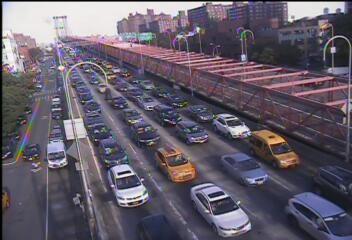neg: (39, 190, 61, 220), (132, 86, 151, 112), (40, 151, 59, 177), (99, 156, 118, 181), (174, 173, 193, 198), (301, 147, 320, 172), (270, 98, 287, 121), (240, 164, 257, 187), (317, 80, 334, 103), (269, 41, 286, 64), (66, 124, 83, 146), (95, 22, 111, 44), (128, 177, 144, 199), (210, 188, 226, 210), (147, 38, 163, 59), (53, 14, 69, 35), (96, 66, 111, 86), (176, 98, 191, 118), (42, 61, 57, 80), (233, 87, 247, 106), (51, 100, 65, 119), (239, 32, 252, 49), (208, 49, 220, 65)
